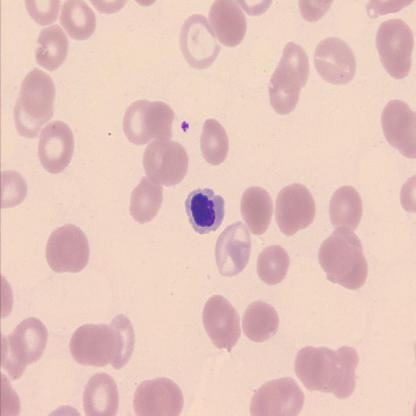NRC: (184, 187, 225, 234)
